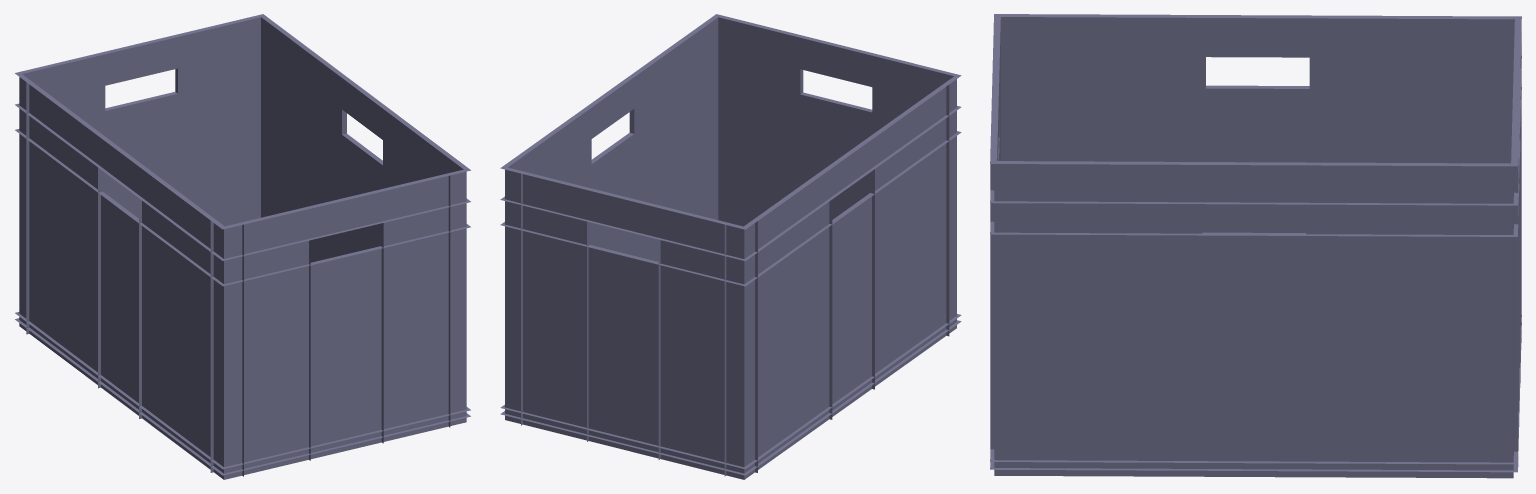
The model's file is plastic_crate.fbx.
3 renders of one model, left to right at view 1: azimuth 30°, elevation 25°; view 2: azimuth 150°, elevation 25°; view 3: azimuth 270°, elevation 25°, orthographic. The views are drawn at different scales.
Parts seen in each view (by area): view 1: Group1; view 2: Group1; view 3: Group1.
Boxes of the visible parts, bbox=[...] form: Group1: bbox=[15, 14, 470, 479]; Group1: bbox=[500, 14, 961, 479]; Group1: bbox=[990, 14, 1521, 478].
Bounding box in the file's own units: 41.68 × 40 × 61.45.
